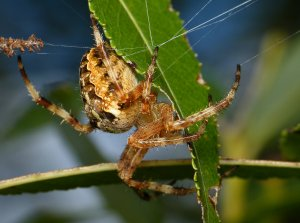spider: (7, 7, 256, 210)
